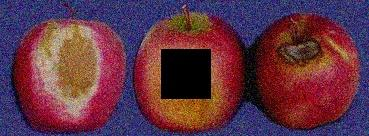red apple: (133, 10, 246, 133)
rotten apple: (9, 11, 129, 133), (253, 12, 360, 128)
